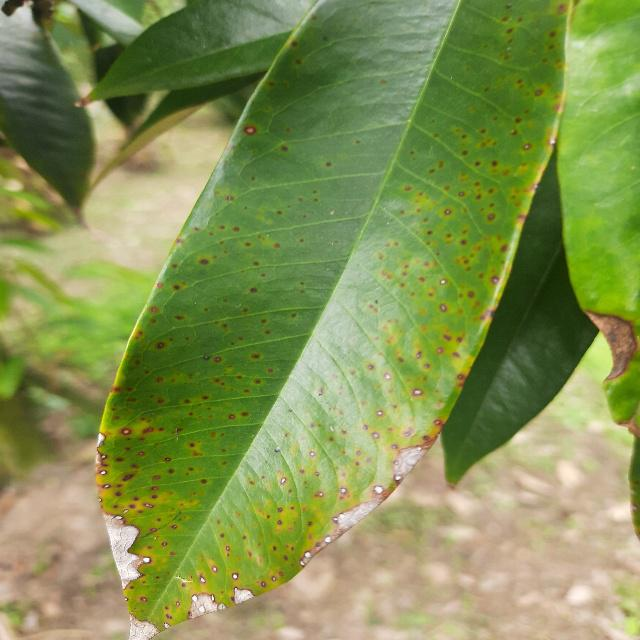Leaf Spot: (93, 0, 576, 639)
